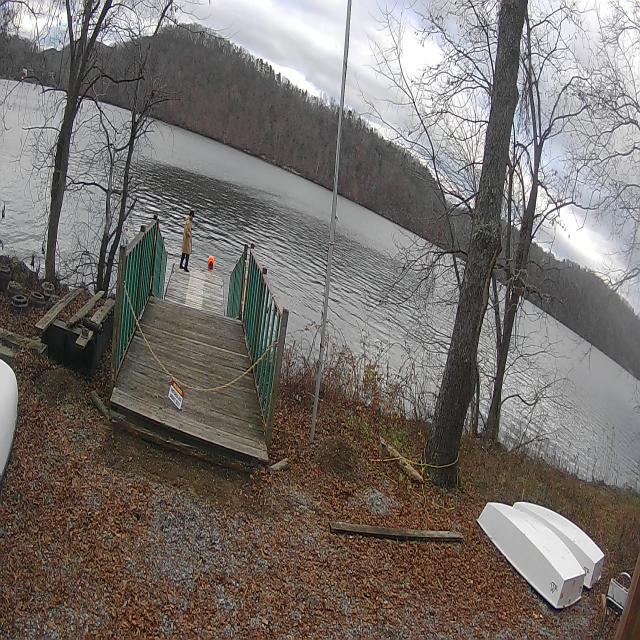Buoy: (208, 255, 215, 269)
